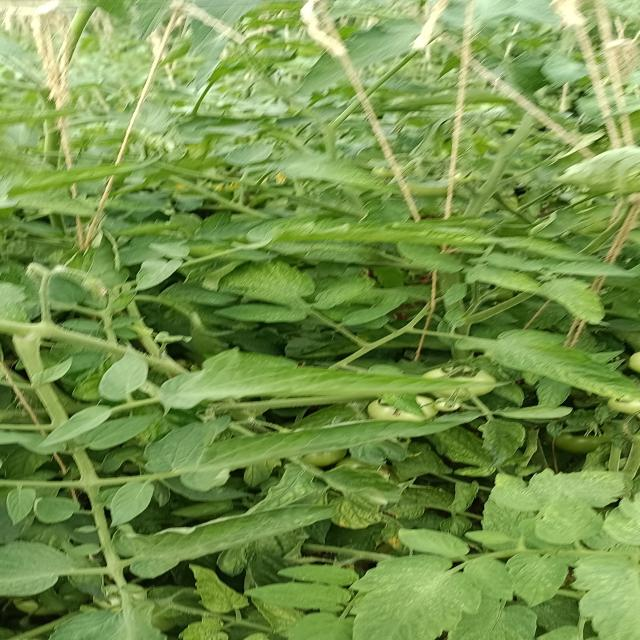Healthy Leaf: (152, 363, 472, 411)
